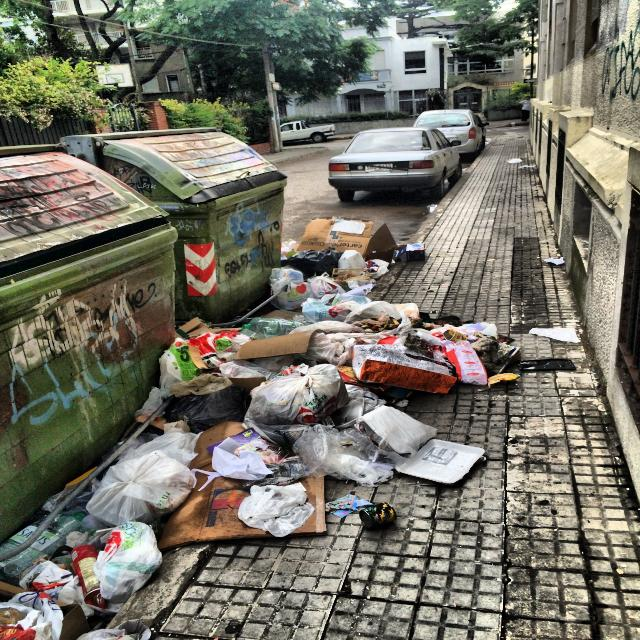garbage: (283, 214, 458, 487), (0, 420, 194, 630), (152, 330, 312, 534)
